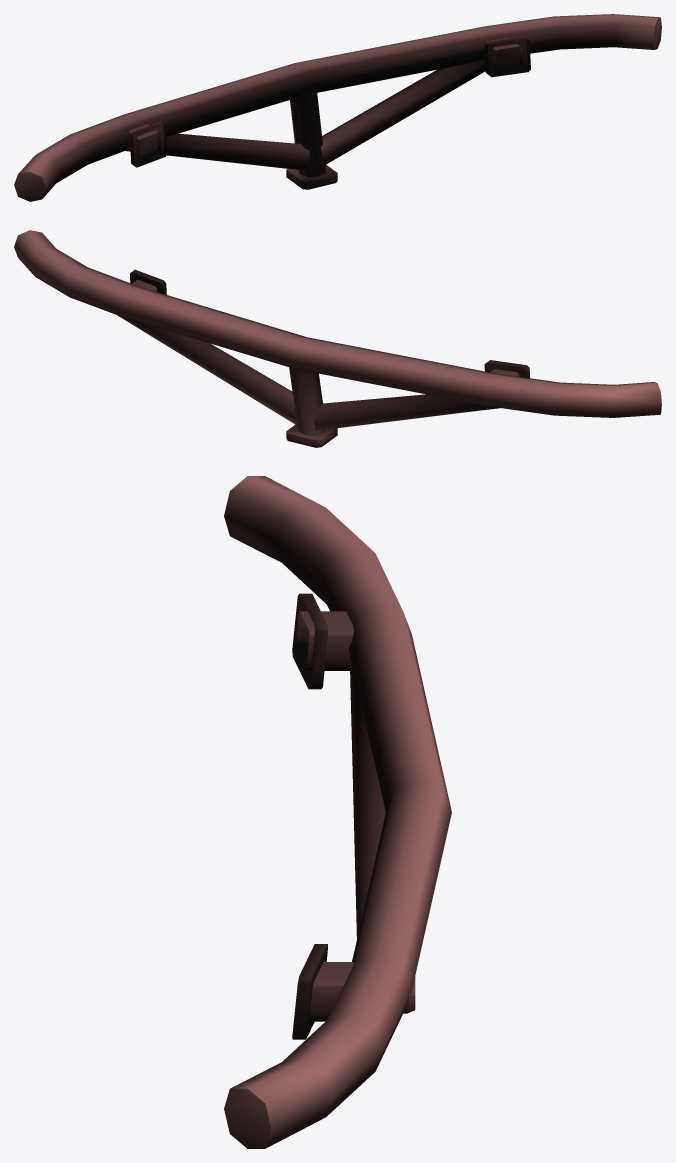
The model's file is MX5_RB_BashBar_Trim.fbx.
3 renders of one model, top to bottom at view 1: azimuth 30°, elevation 25°; view 2: azimuth 150°, elevation 25°; view 3: azimuth 270°, elevation 25°, orthographic. The views are drawn at different scales.
Parts seen in each view (by area): view 1: MX5_RB_BashBar_Trim; view 2: MX5_RB_BashBar_Trim; view 3: MX5_RB_BashBar_Trim.
Boxes of the visible parts, x1,y1,x2,y2 form: MX5_RB_BashBar_Trim: (14, 14, 661, 201); MX5_RB_BashBar_Trim: (14, 230, 661, 447); MX5_RB_BashBar_Trim: (224, 476, 451, 1148).
Bounding box in the file's own units: 134 × 21.1 × 20.36.
